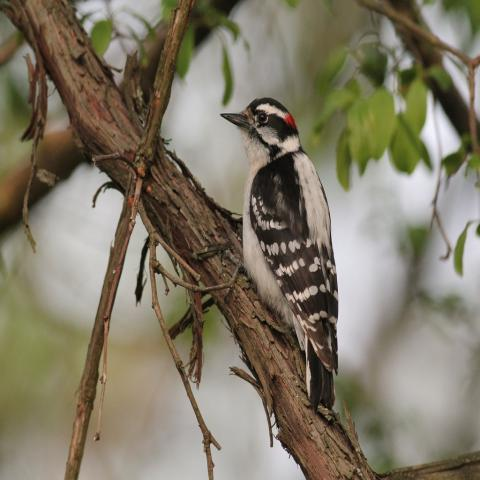bird: (218, 94, 341, 414)
